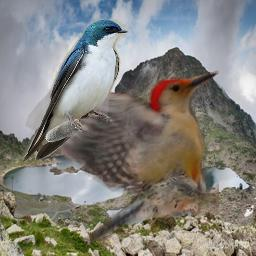Swallow: (22, 19, 129, 164)
Woodpecker: (23, 68, 219, 241)
